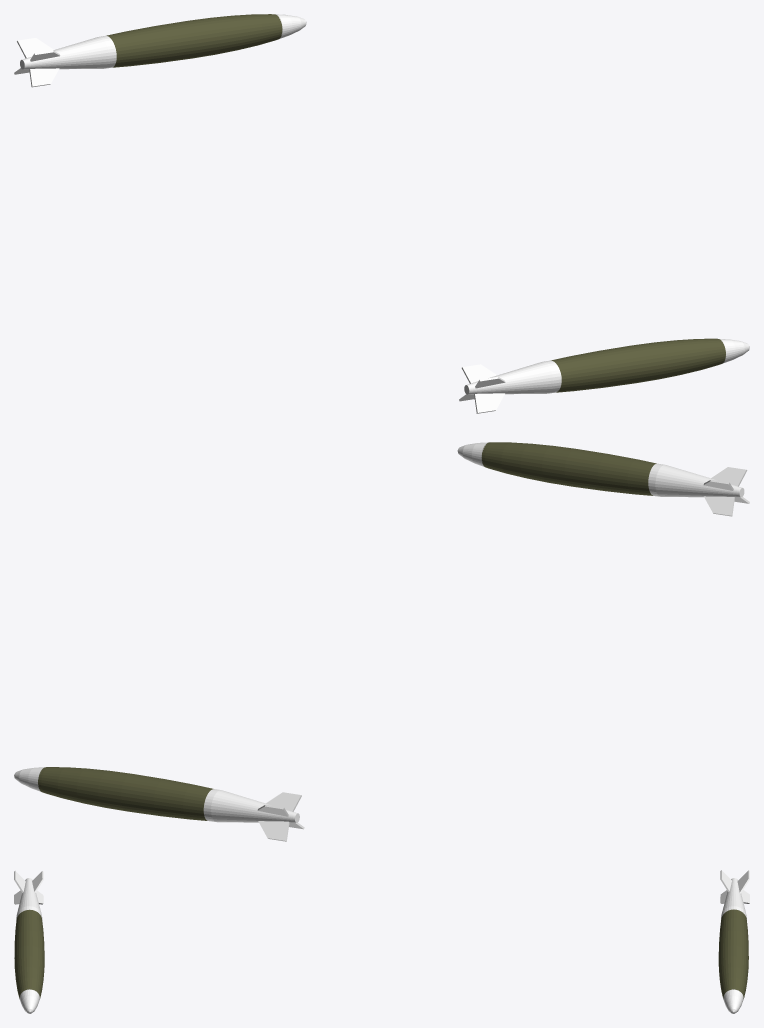
The picture shows the model from 3 angles, top to bottom: view 1: azimuth 30°, elevation 25°; view 2: azimuth 150°, elevation 25°; view 3: azimuth 270°, elevation 25°; orthographic projection. The views are drawn at different scales.
Parts seen in each view (by area): view 1: 円柱.005, 円柱.009; view 2: 円柱.009, 円柱.005; view 3: 円柱.009, 円柱.005.
Part boxes in pixels (x1,y1,x2,y2): 円柱.005: (14,14,306,87); 円柱.009: (459,338,749,413); 円柱.009: (457,442,749,516); 円柱.005: (14,767,304,841); 円柱.009: (14,870,44,1013); 円柱.005: (718,870,749,1013).
Size of the model in its own units: 2.41 by 0.4243 by 6.81.
Materials: 3 (1 with a texture image).
